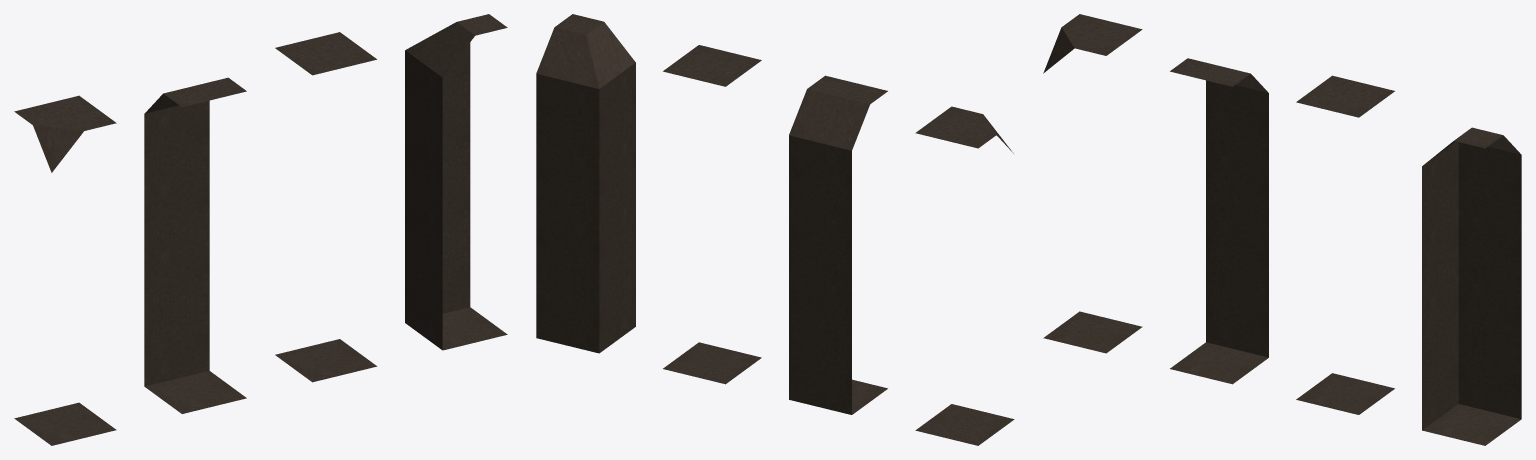
The model's file is dirtupt.glb.
3 renders of one model, left to right at view 1: azimuth 30°, elevation 25°; view 2: azimuth 150°, elevation 25°; view 3: azimuth 330°, elevation 25°, orthographic. The views are drawn at different scales.
Visible parts, largest first — view 1: wallDirt-col, cornerDirt-col, roofCornerDirt-col, roofDirt-col; view 2: cornerDirt-col, wallDirt-col, roofDirt-col, roofCornerDirt-col; view 3: cornerDirt-col, wallDirt-col, roofCornerDirt-col, roofDirt-col.
Part boxes in pixels (x1=…): wallDirt-col: x1=144, y1=77, x2=246, y2=413; cornerDirt-col: x1=405, y1=14, x2=507, y2=350; roofCornerDirt-col: x1=14, y1=95, x2=116, y2=445; roofDirt-col: x1=275, y1=32, x2=377, y2=382; cornerDirt-col: x1=536, y1=14, x2=635, y2=353; wallDirt-col: x1=789, y1=75, x2=887, y2=414; roofDirt-col: x1=663, y1=45, x2=761, y2=384; roofCornerDirt-col: x1=915, y1=106, x2=1014, y2=445; cornerDirt-col: x1=1422, y1=127, x2=1521, y2=445; wallDirt-col: x1=1170, y1=58, x2=1268, y2=384; roofCornerDirt-col: x1=1043, y1=14, x2=1142, y2=353; roofDirt-col: x1=1296, y1=75, x2=1394, y2=414.
Bounding box in the file's own units: 7 × 4.5 × 1.
Materials: 1 (1 with a texture image).
